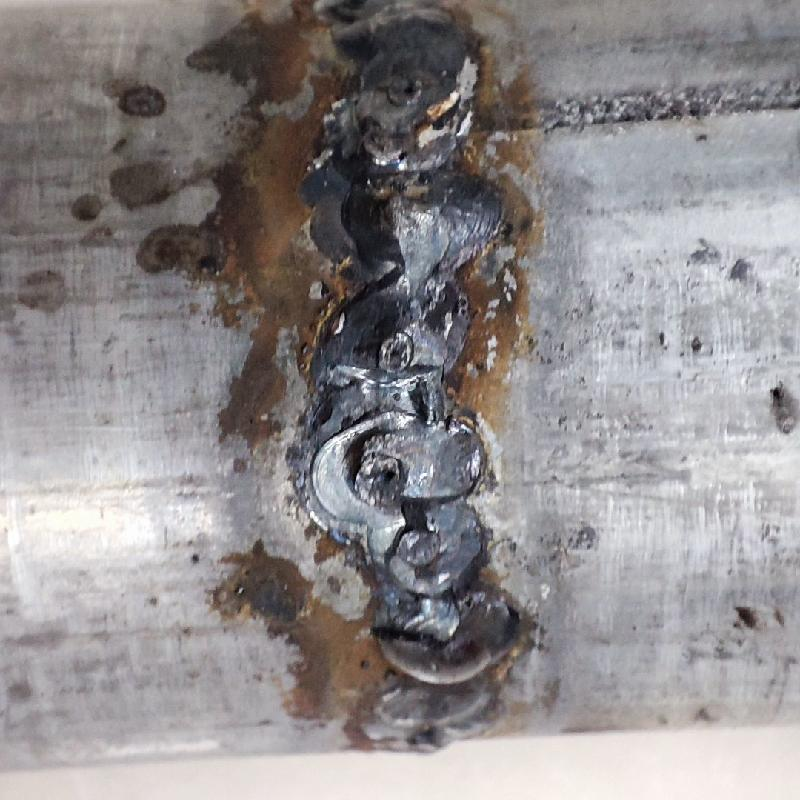Surface_pores: (359, 454, 413, 490), (378, 330, 413, 380), (390, 70, 426, 109)
Weld: (366, 609, 513, 685)
wrong_size: (313, 0, 523, 757)
